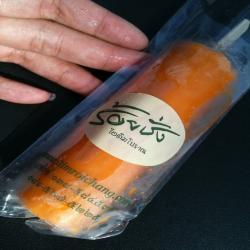icecream: (14, 12, 250, 235)
